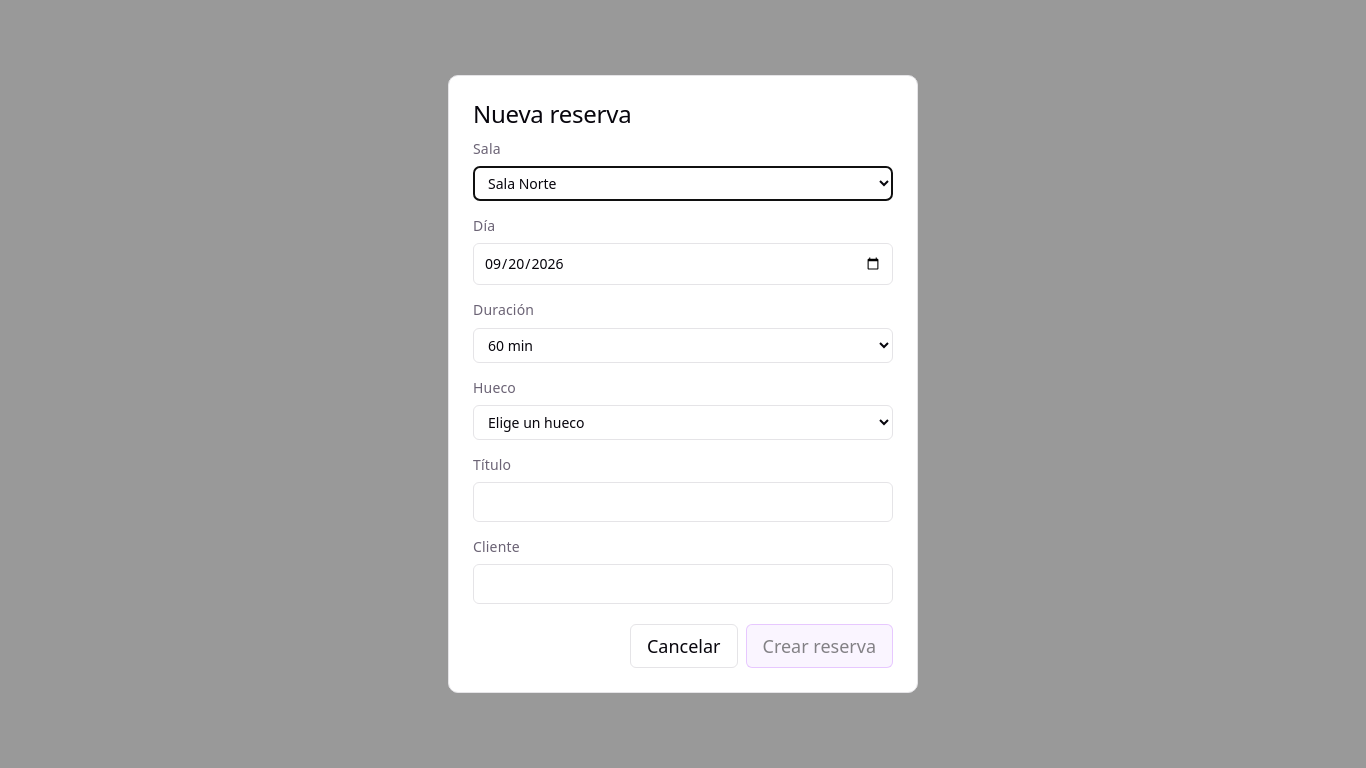
NewBookingDialog: huecos y creación › ante otro error de negocio, muestra el mensaje sin recargar los huecos
Expected: the dropdown labelled "Sala" is enabled, [473,166,893,201]
Select "11:00–12:00" in the dropdown labelled "Hueco" at (683, 422), box [473,405,893,440]
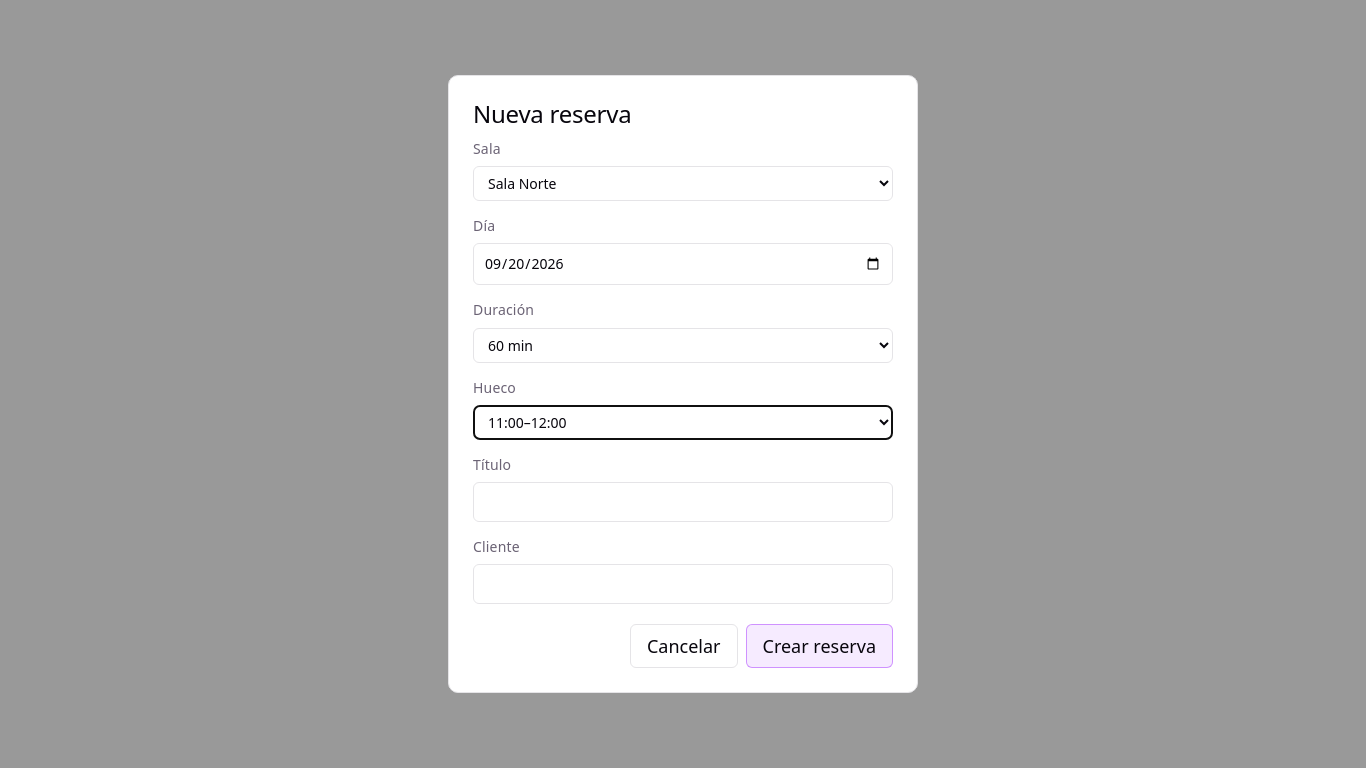
Type "Ensayo de banda" into the field labelled "Título" at (683, 502), box [473,482,893,522]
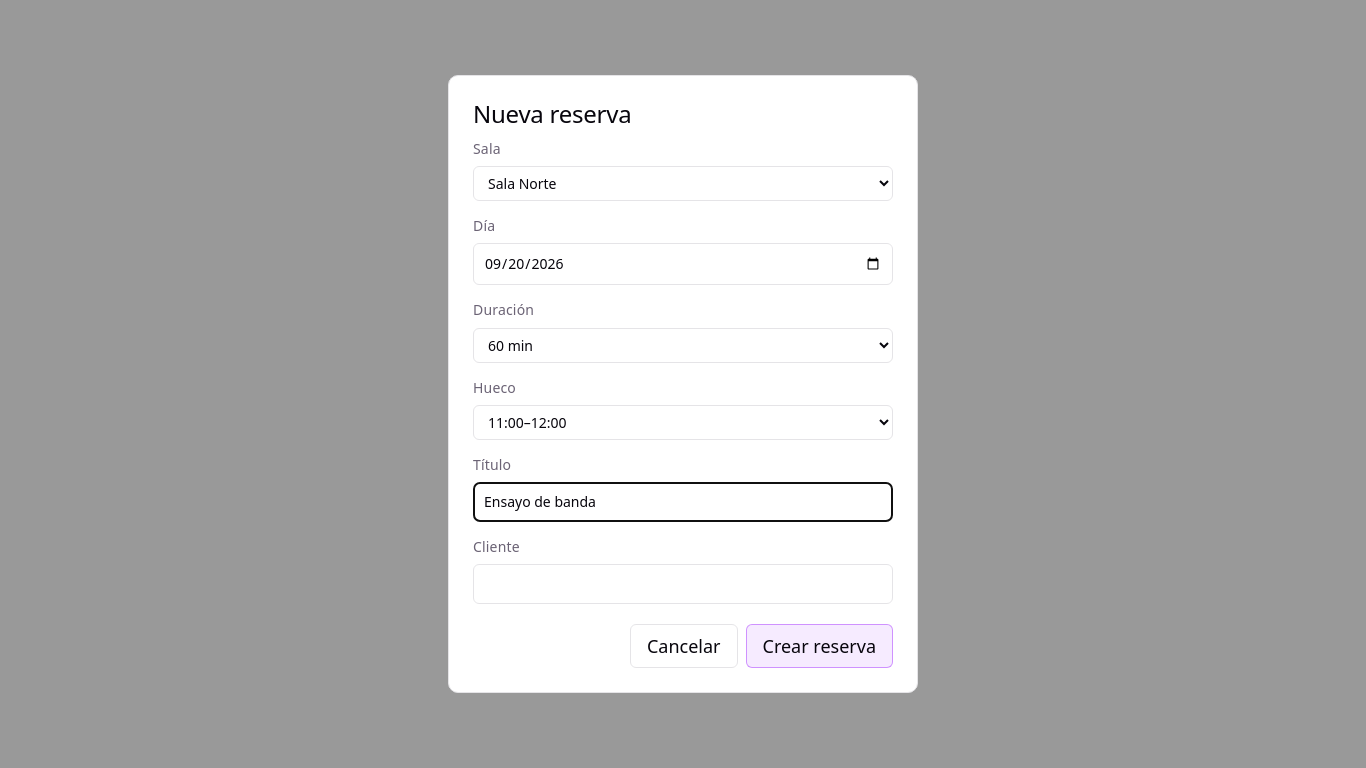
Type "Álvaro García" into the field labelled "Cliente" at (683, 584), box [473,564,893,604]
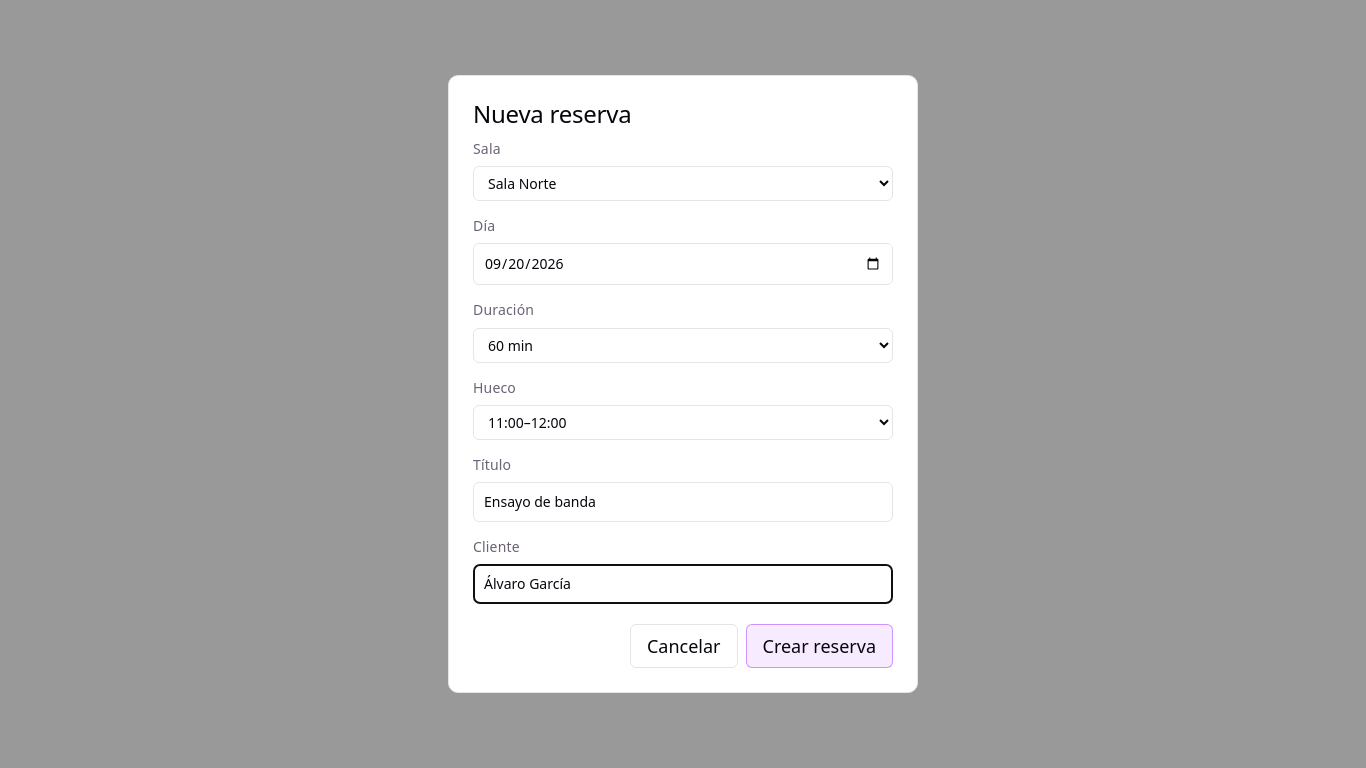
Click the button "Crear reserva" at (819, 646), box [746,624,893,668]
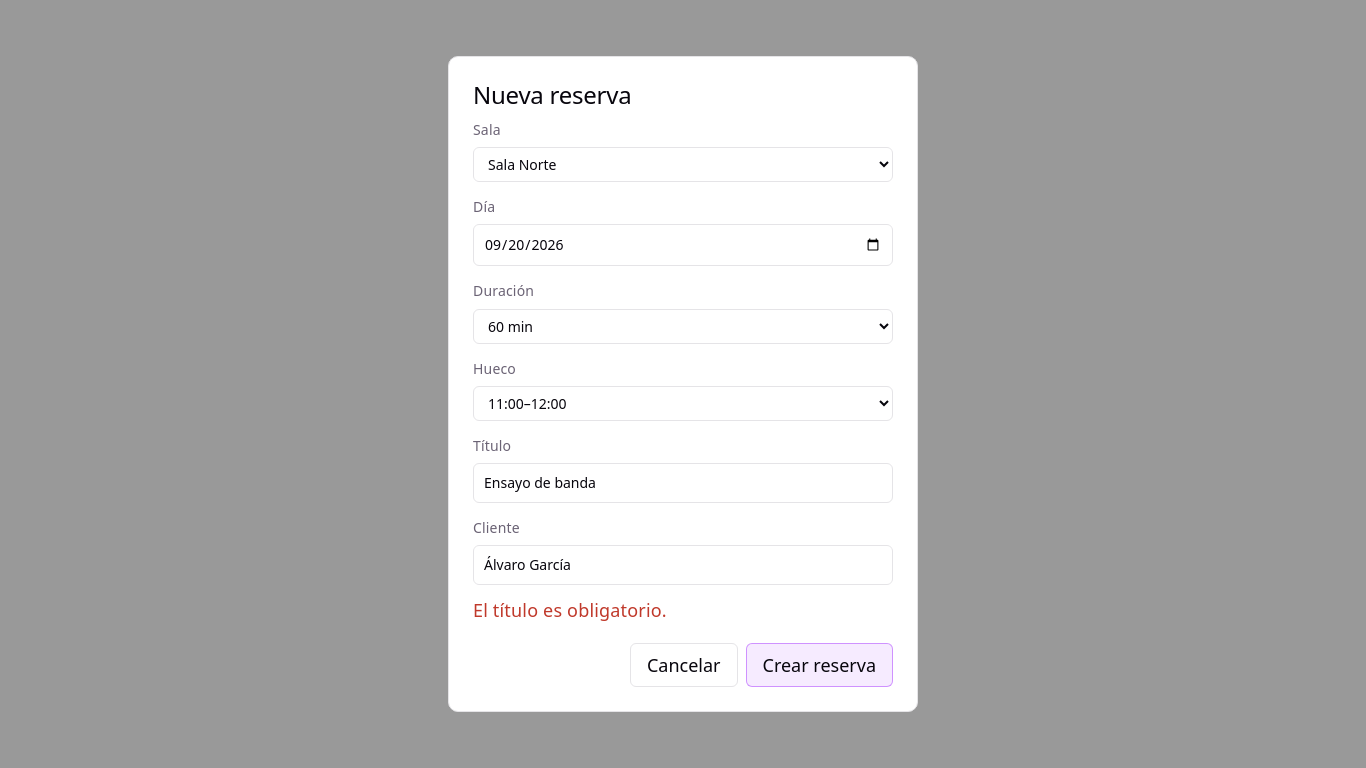
Now the message reads "El título es obligatorio.", box [473,598,667,622]
